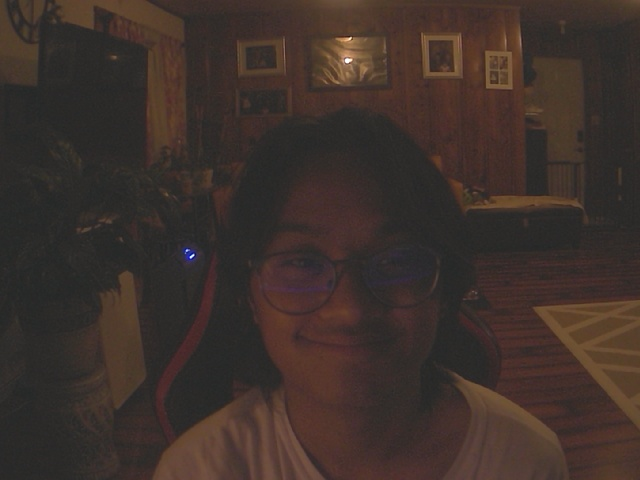happy: (223, 106, 476, 406)
